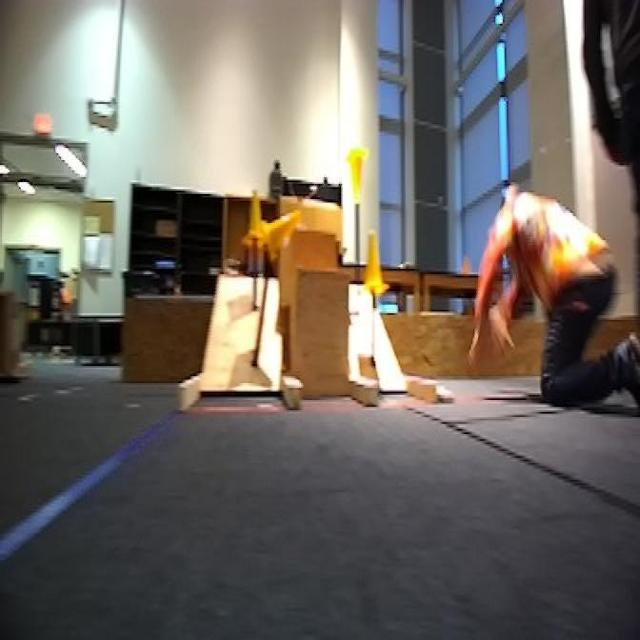frc_cone: (357, 225, 388, 298), (268, 204, 306, 257), (343, 141, 372, 206), (241, 190, 269, 248)
